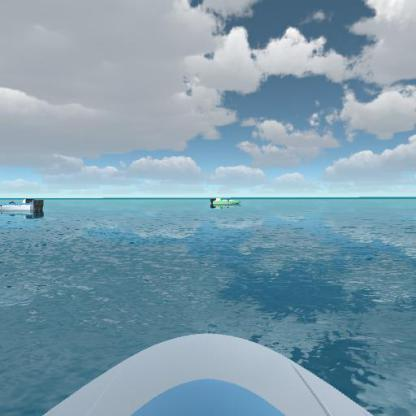usv0: (208, 194, 244, 210)
usv1: (0, 194, 48, 219)
